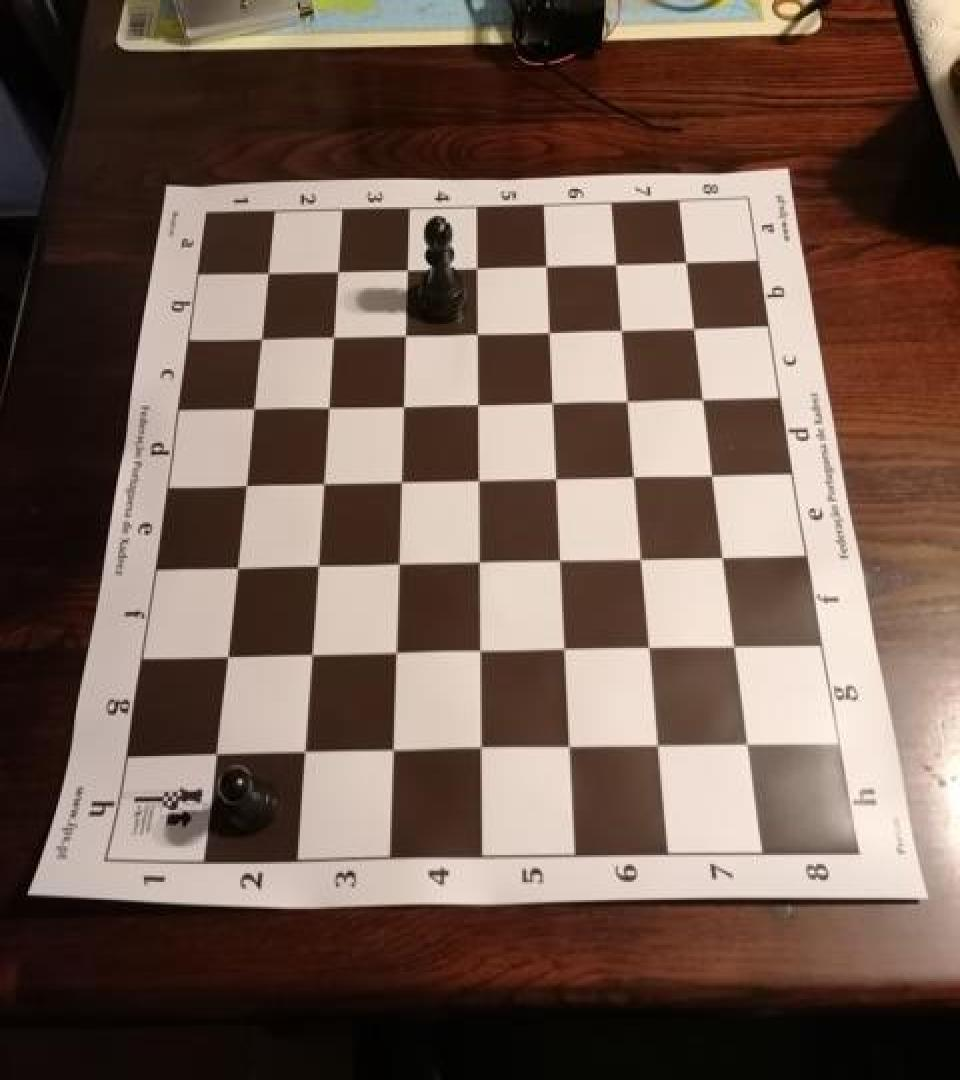xcorner: (710, 536, 742, 573), (734, 725, 766, 762), (643, 725, 675, 762), (672, 242, 704, 278), (601, 243, 633, 279), (531, 245, 563, 281), (460, 246, 492, 282), (390, 248, 422, 284), (320, 248, 352, 284), (251, 250, 283, 286), (681, 307, 713, 343), (607, 308, 639, 344), (534, 310, 566, 346), (461, 312, 493, 348), (388, 313, 420, 349), (315, 314, 347, 350), (243, 315, 275, 351), (690, 378, 722, 414), (613, 379, 645, 415), (537, 380, 569, 416), (461, 382, 493, 418), (385, 382, 417, 418), (235, 385, 267, 421), (700, 454, 732, 490), (620, 454, 652, 490), (540, 456, 572, 492), (461, 457, 493, 493), (383, 458, 415, 494), (304, 459, 336, 495), (226, 460, 258, 496), (627, 538, 659, 574), (544, 539, 576, 575), (462, 539, 494, 575), (380, 540, 412, 576), (298, 541, 330, 577), (217, 542, 249, 578), (722, 626, 754, 662), (635, 628, 667, 664), (548, 628, 580, 664), (462, 629, 494, 665), (376, 630, 408, 666), (291, 630, 323, 666), (206, 631, 238, 667), (553, 727, 585, 763), (463, 727, 495, 763), (373, 728, 405, 764), (284, 728, 316, 764), (195, 729, 227, 765), (310, 384, 342, 419)
